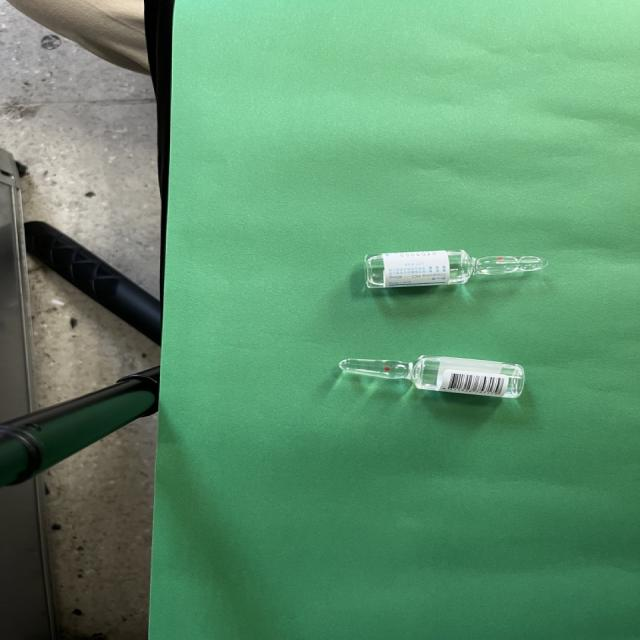Ampoules: (44, 416, 157, 640), (26, 260, 159, 407), (339, 356, 525, 398), (365, 250, 547, 288)
